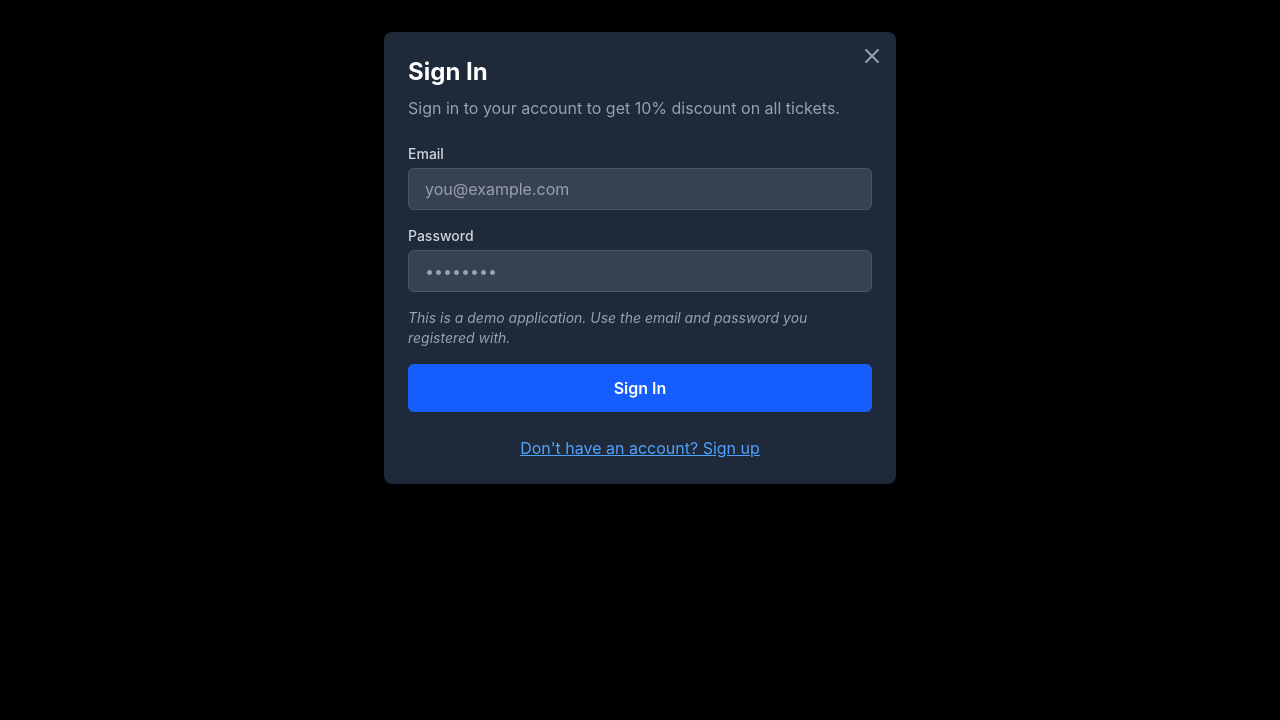
Scenario: AuthModals › shows loading state when submitting
In the field labelled "Email": [640, 189] box [408,168,872,210], type "user@example.com"
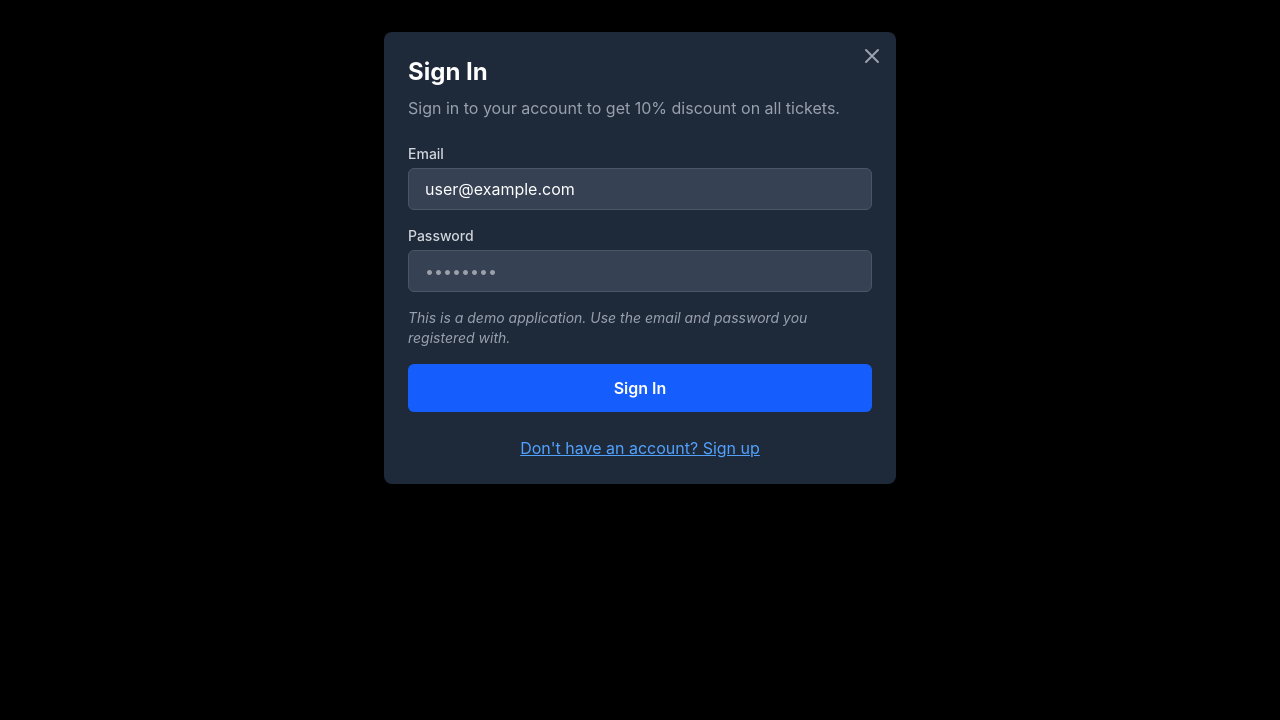
In the password field labelled "Password": [640, 271] box [408,250,872,292], type "password"
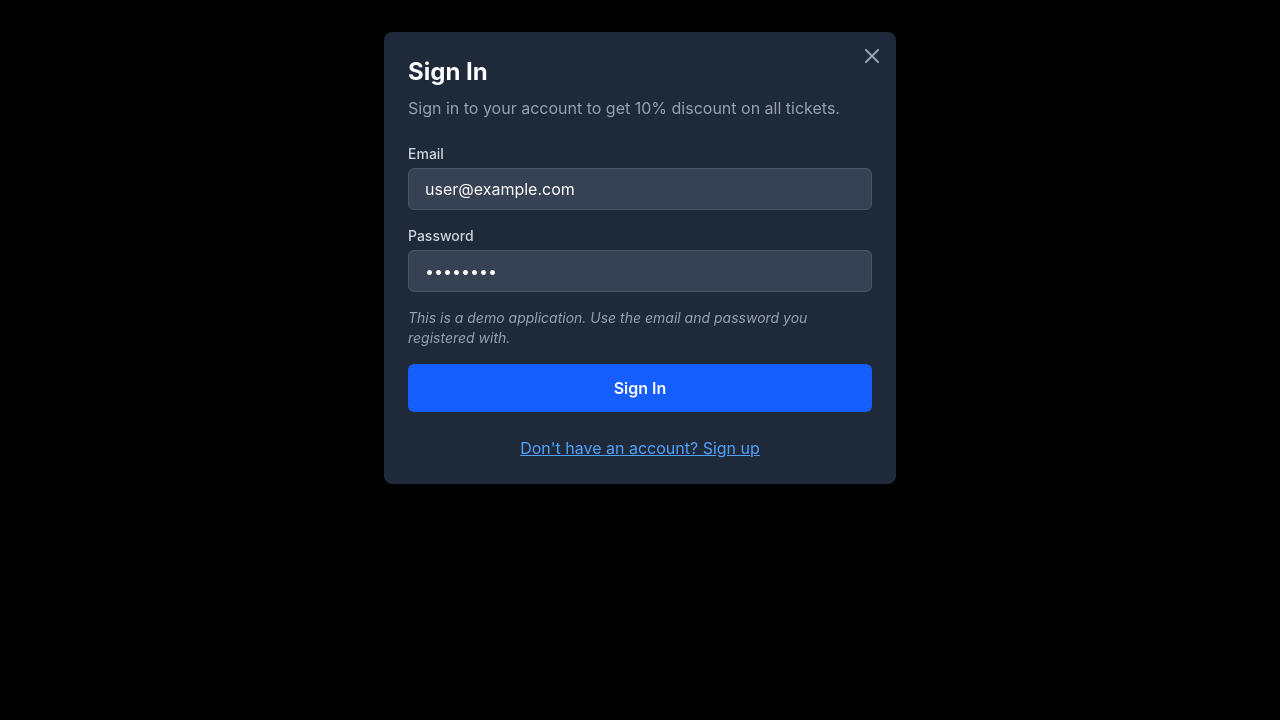
Click the button "Sign In": [640, 388] box [408,364,872,412]
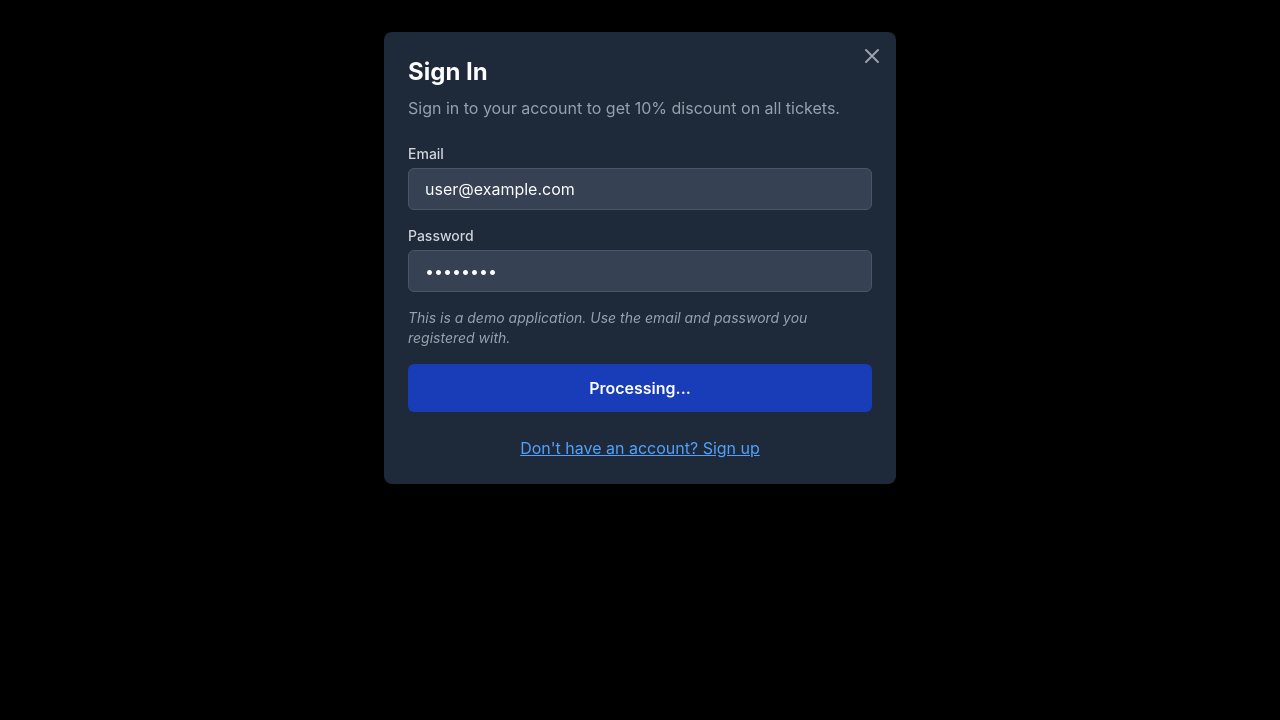
Result: the button "Processing..." is disabled at [408,364,872,412]
